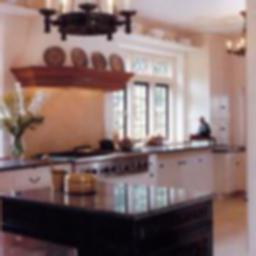Electrodomestico: (50, 150, 152, 175)
